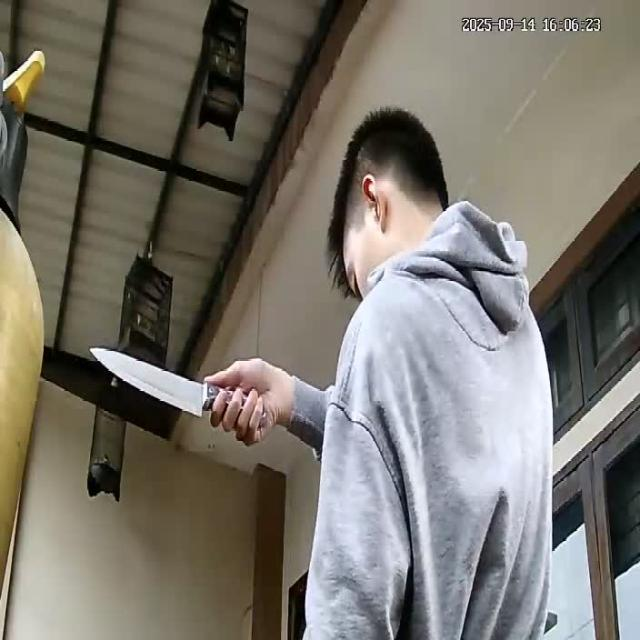senjata_tajam: (88, 344, 210, 419)
